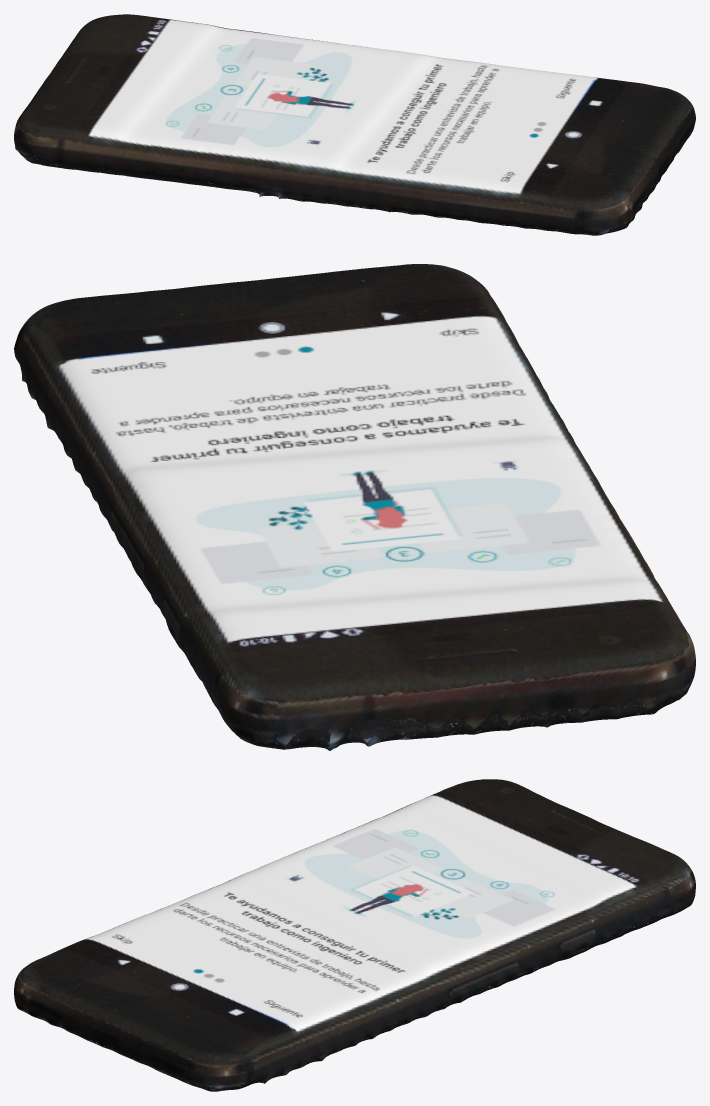
Rendered from PhoneAppInspirit.glb.
3 views of the same model, one above another, from view 1: azimuth 30°, elevation 25°; view 2: azimuth 150°, elevation 25°; view 3: azimuth 270°, elevation 25° (orthographic). The views are drawn at different scales.
Parts seen in each view (by area): view 1: model_Google_Pixel_20171103_101730454:Mesh; view 2: model_Google_Pixel_20171103_101730454:Mesh; view 3: model_Google_Pixel_20171103_101730454:Mesh.
Boxes of the visible parts, <box> form: model_Google_Pixel_20171103_101730454:Mesh: <box>14,14,695,235</box>; model_Google_Pixel_20171103_101730454:Mesh: <box>14,264,695,750</box>; model_Google_Pixel_20171103_101730454:Mesh: <box>14,779,695,1091</box>.
Bounding box in the file's own units: 140 × 9.84 × 143.
1 material, 1 textured.
